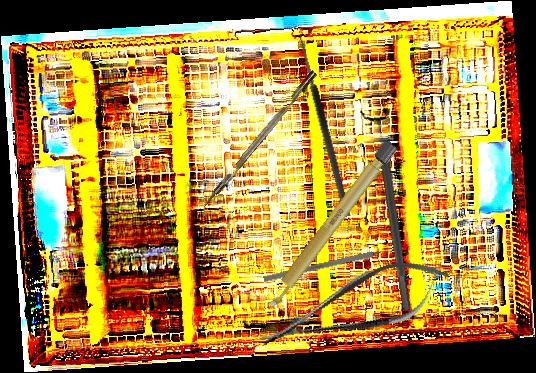Chopper: (195, 70, 325, 219)
Fixation Ring: (359, 105, 422, 314)
Hook Surgical: (286, 32, 353, 220), (263, 245, 398, 283)
Micro Scissor: (249, 245, 459, 368)
Scalpel Handle: (260, 137, 400, 314)
